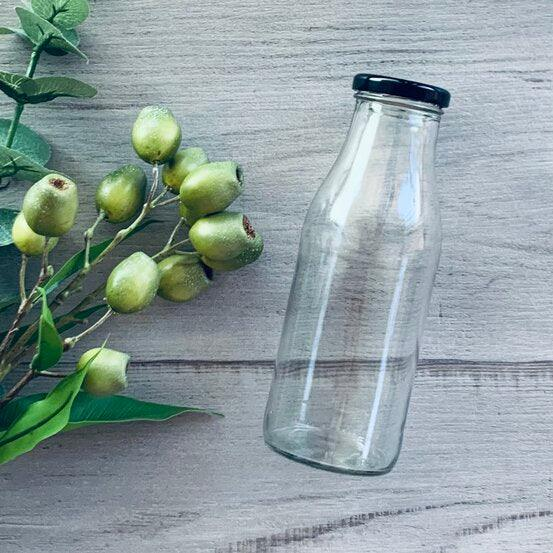glass_bottle: (261, 67, 458, 480)
